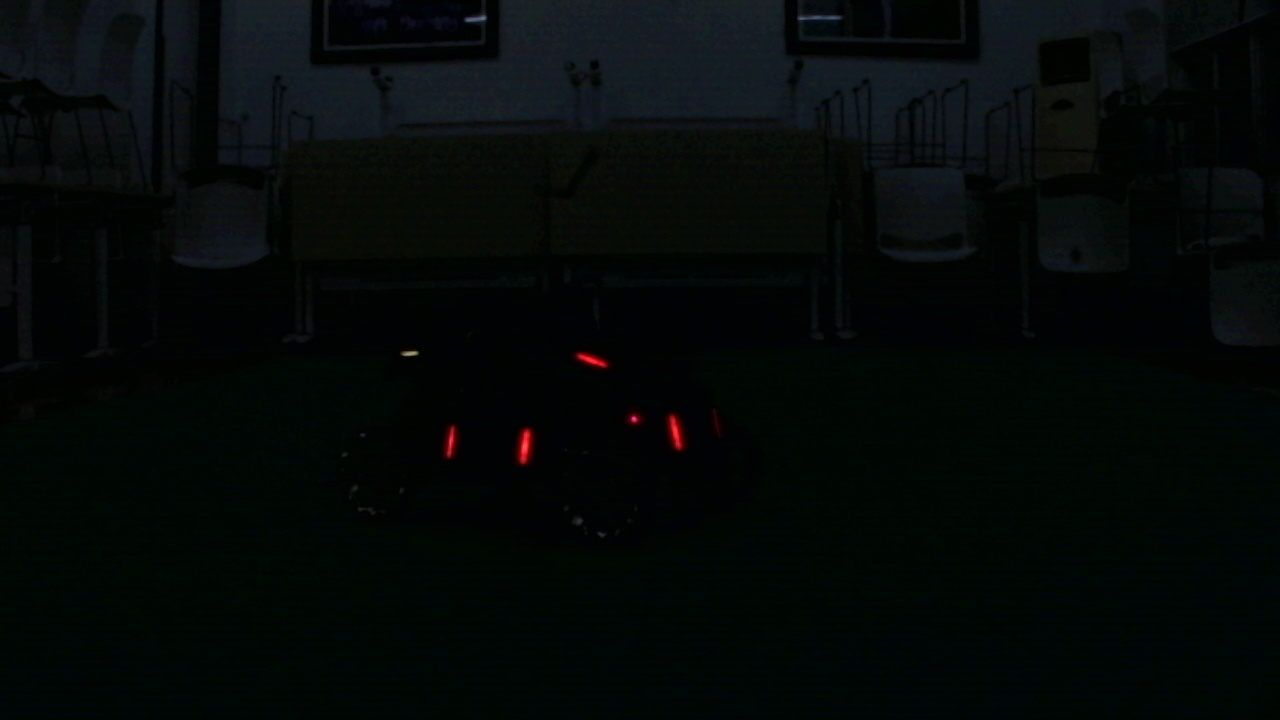lamp: (518, 426, 536, 464), (443, 424, 460, 462), (667, 415, 682, 450)
pair1: (445, 427, 532, 462)
